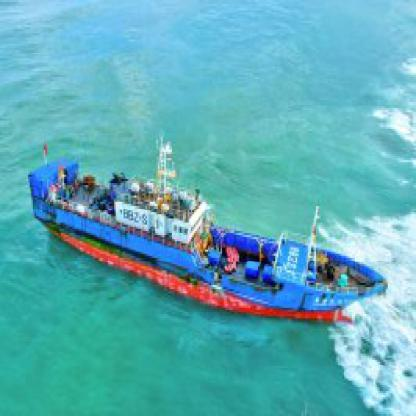fish-b: (16, 129, 400, 341)
